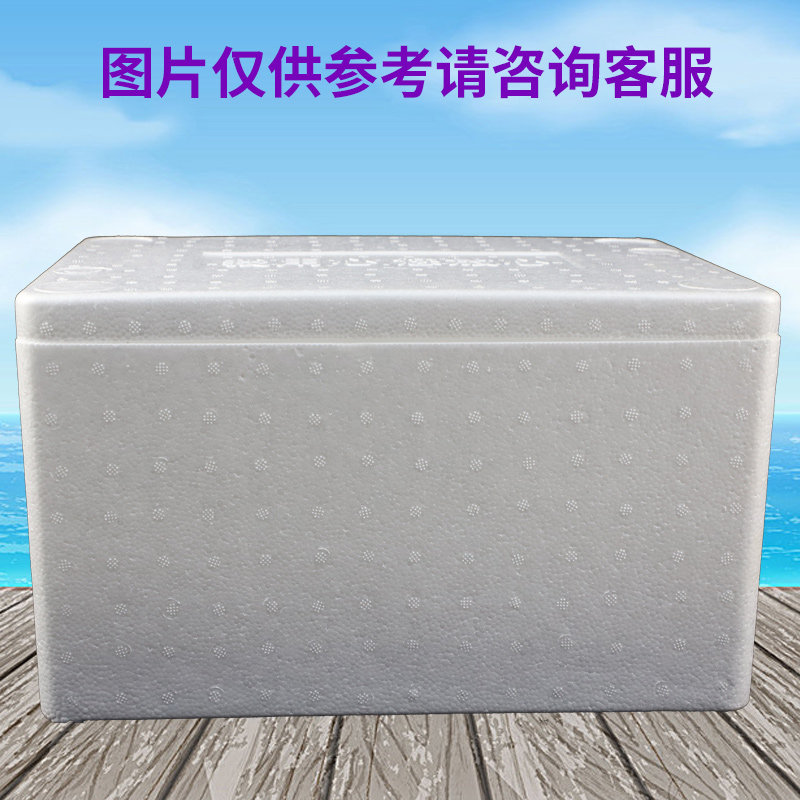Boxes: (16, 239, 779, 718)
